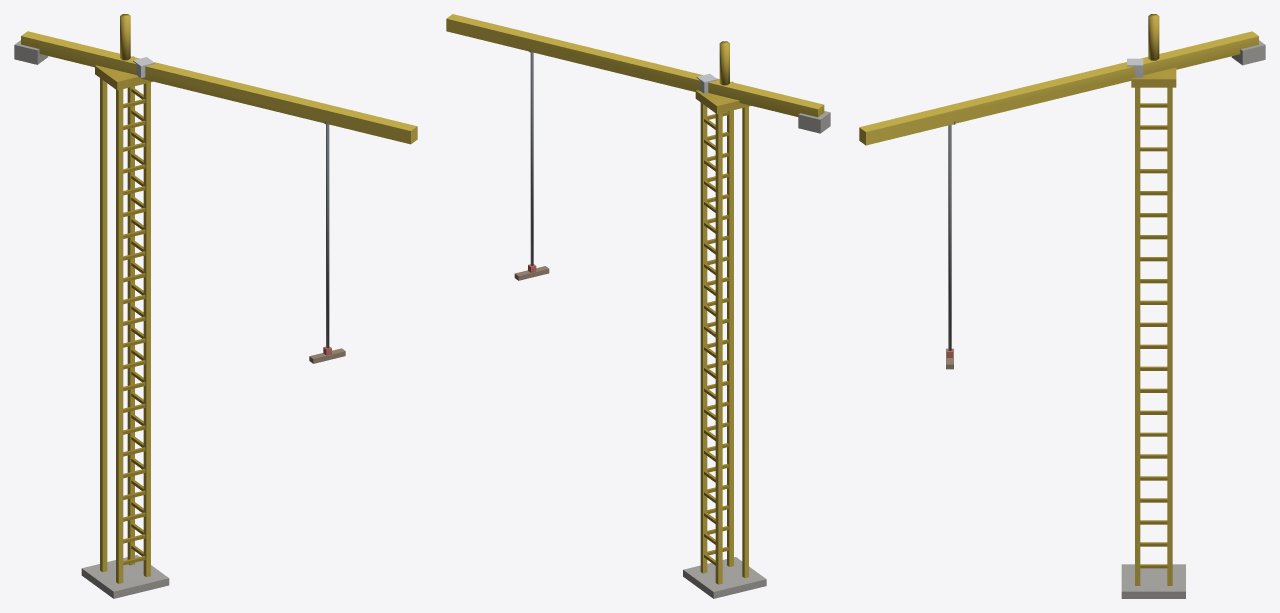
Rendered from crane-2-1.glb.
The picture shows the model from 3 angles, left to right: view 1: azimuth 30°, elevation 25°; view 2: azimuth 210°, elevation 25°; view 3: azimuth 270°, elevation 25°; orthographic projection. The views are drawn at different scales.
Parts seen in each view (by area): view 1: crane-2-1; view 2: crane-2-1; view 3: crane-2-1.
Boxes of the visible parts, left/top/right/bottom form: crane-2-1: left=14, top=14, right=417, bottom=598; crane-2-1: left=446, top=14, right=830, bottom=598; crane-2-1: left=859, top=14, right=1265, bottom=598.
Size of the model in its own units: 0.91 by 2.33 by 1.51.
